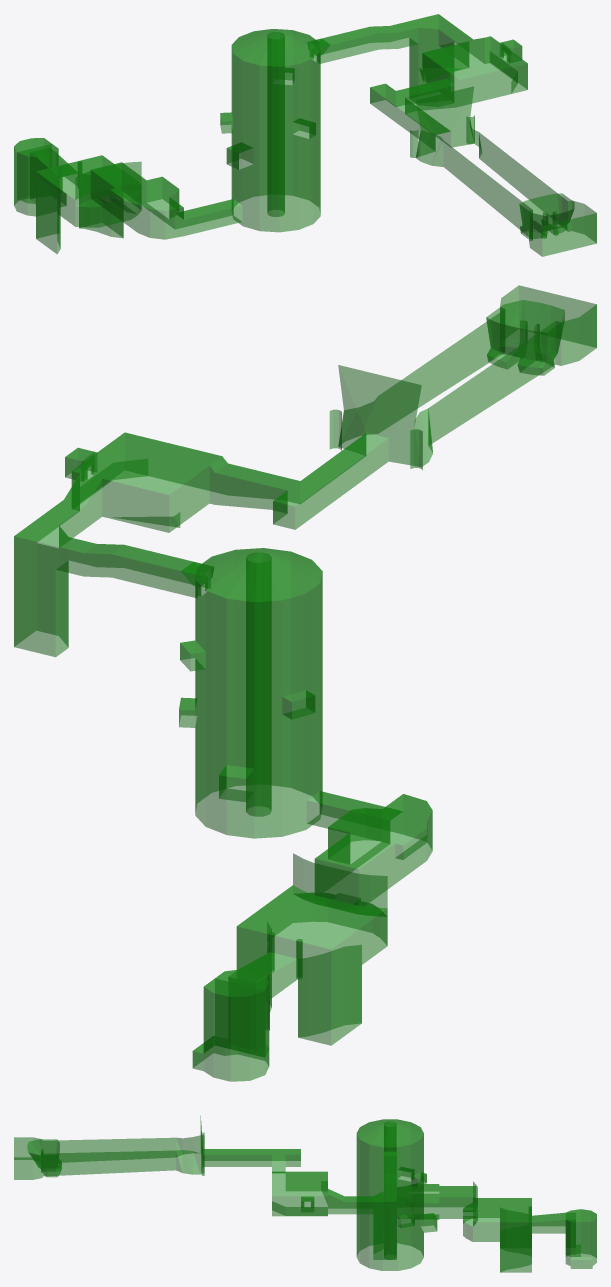
File: hit_A1_kabe1.obj
3 views of the same model, one above another, from view 1: azimuth 30°, elevation 25°; view 2: azimuth 150°, elevation 25°; view 3: azimuth 270°, elevation 25° (orthographic). The views are drawn at different scales.
Bounding box in the file's own units: 170 × 128 × 346.
